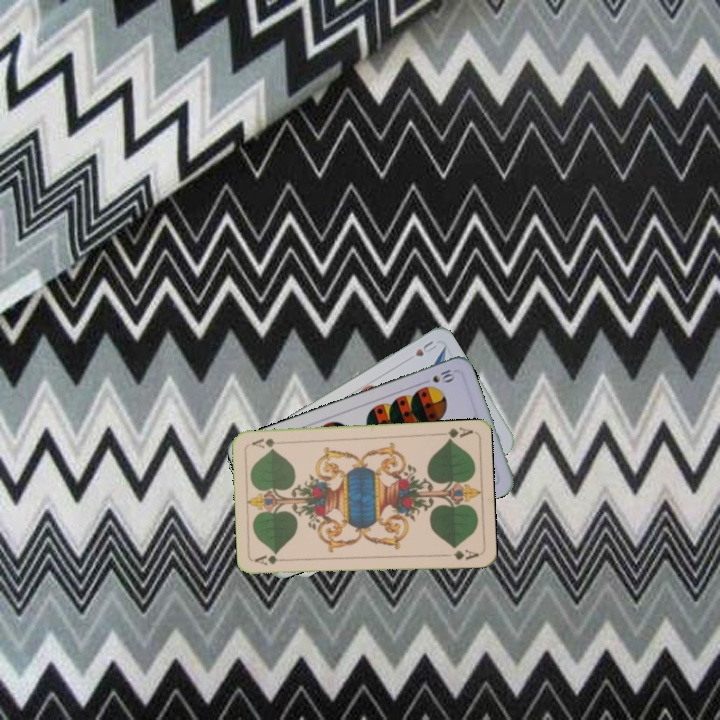GA: (434, 423, 475, 444), (251, 552, 292, 568)
HU: (411, 337, 439, 359)
S10: (418, 365, 458, 387)
